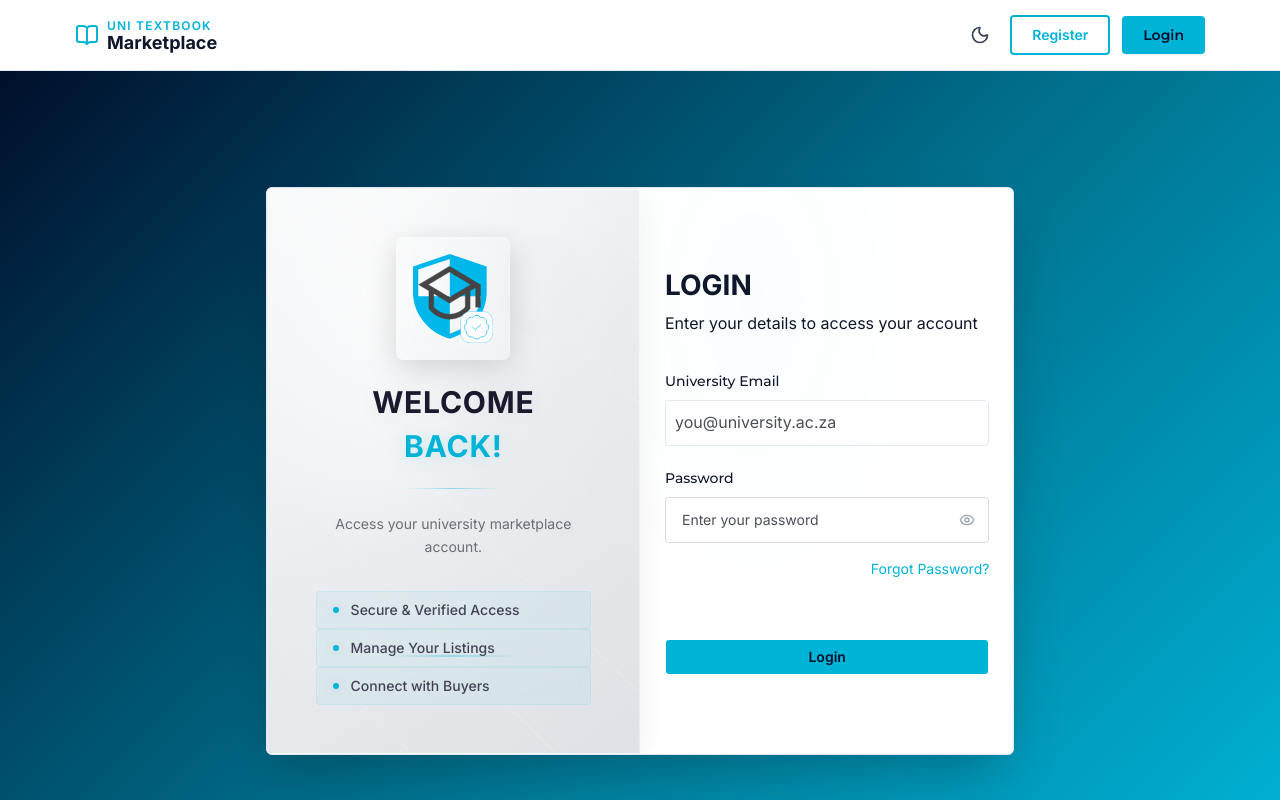
it: Login › toggles password visibility
The image size is (1280, 800).
Step 1. Type "Password123" into the password field labelled "Password" → (827, 520), box [665,497,989,543]
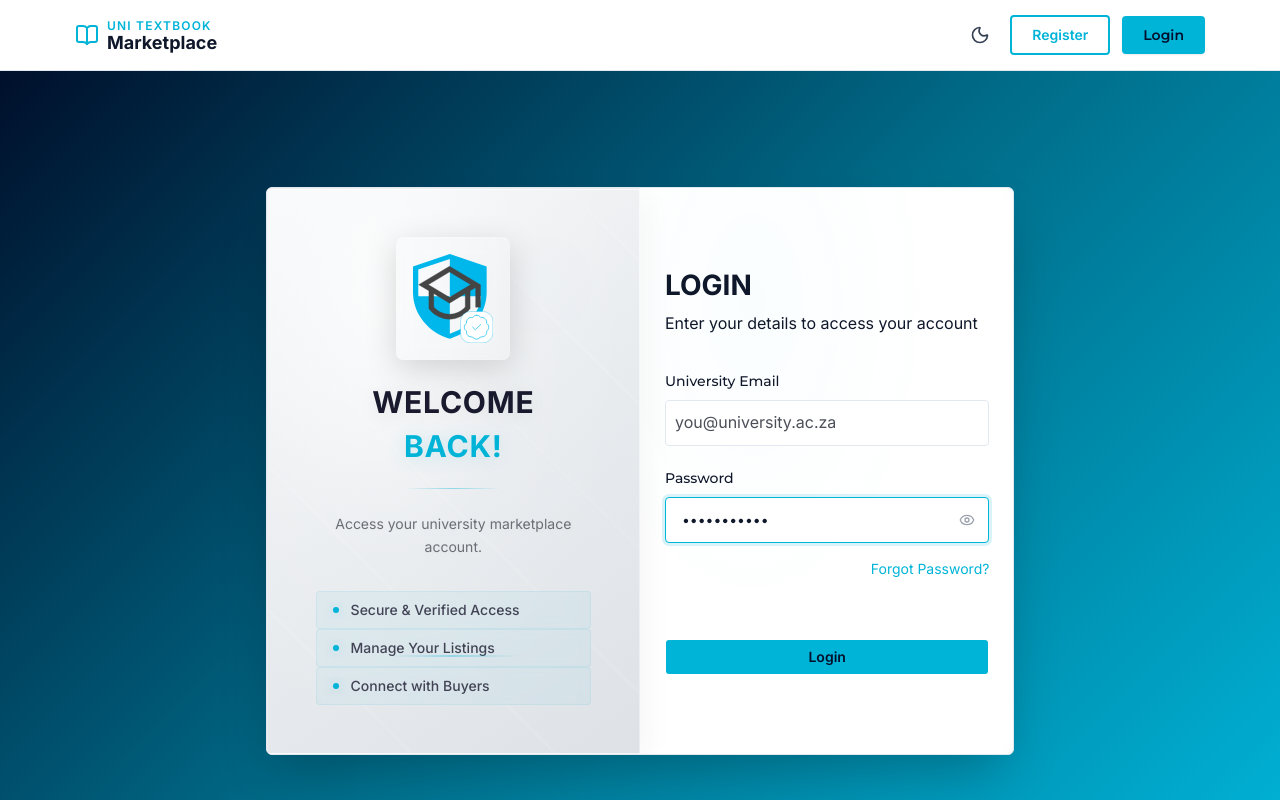
Step 2. Click the button named "Show password" → click(967, 520), box [945,497,989,543]
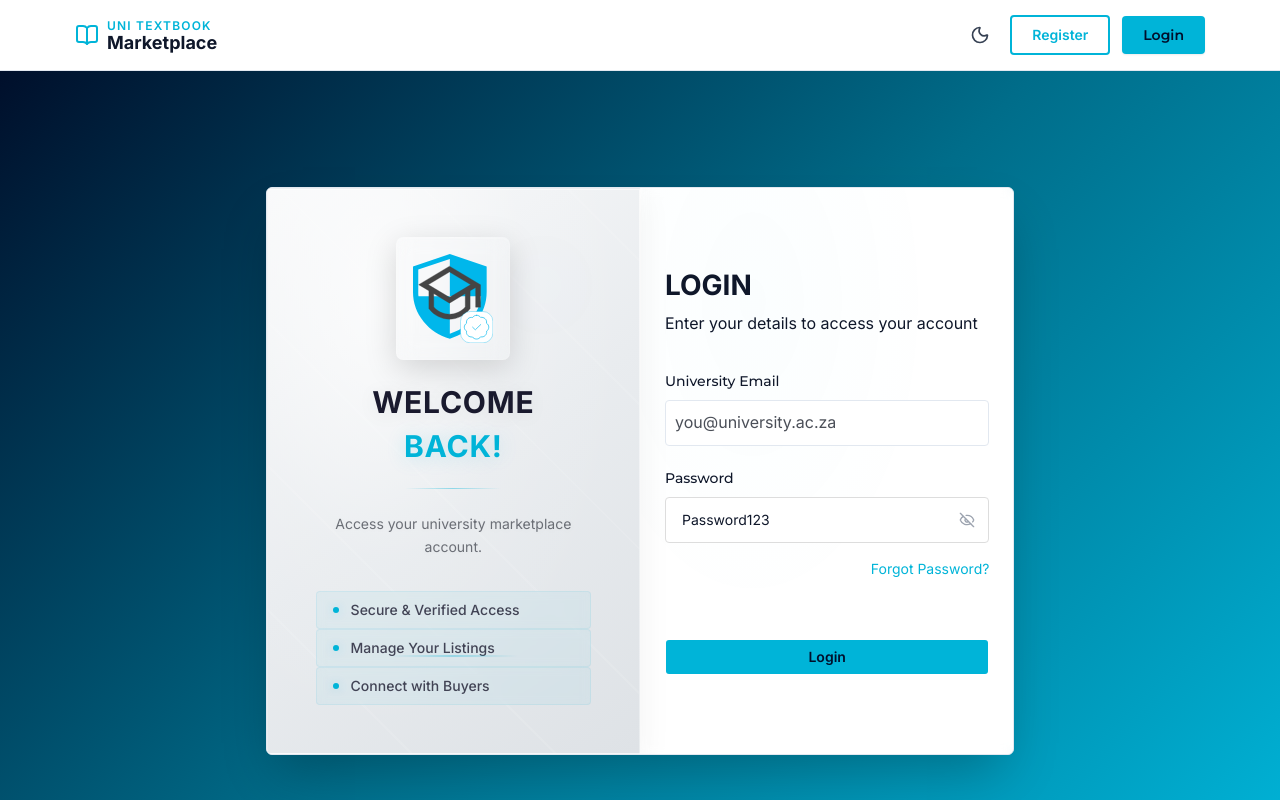
expect the field labelled "Password" shows its text: met, box [665,497,989,543]
Step 3. Click the button named "Hide password" → click(967, 520), box [945,497,989,543]
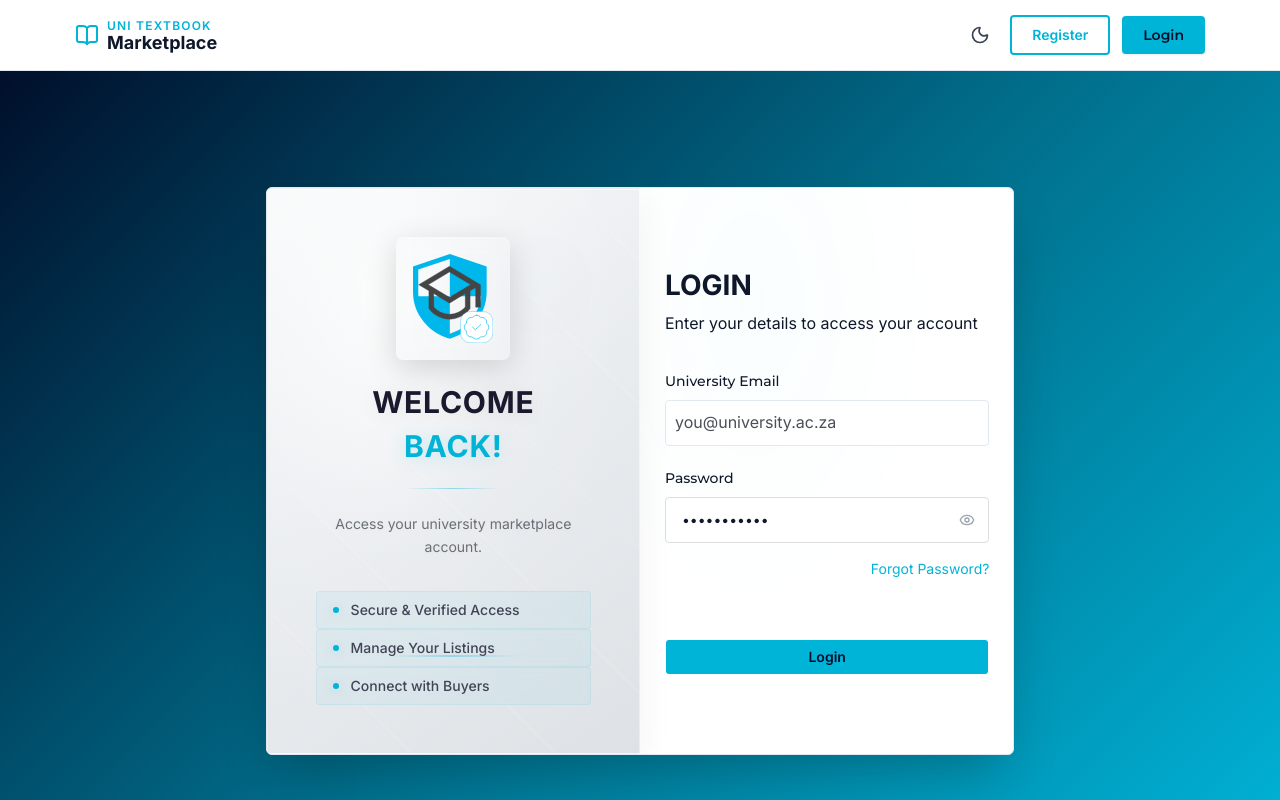
expect the password field labelled "Password" hides its text: met, box [665,497,989,543]
